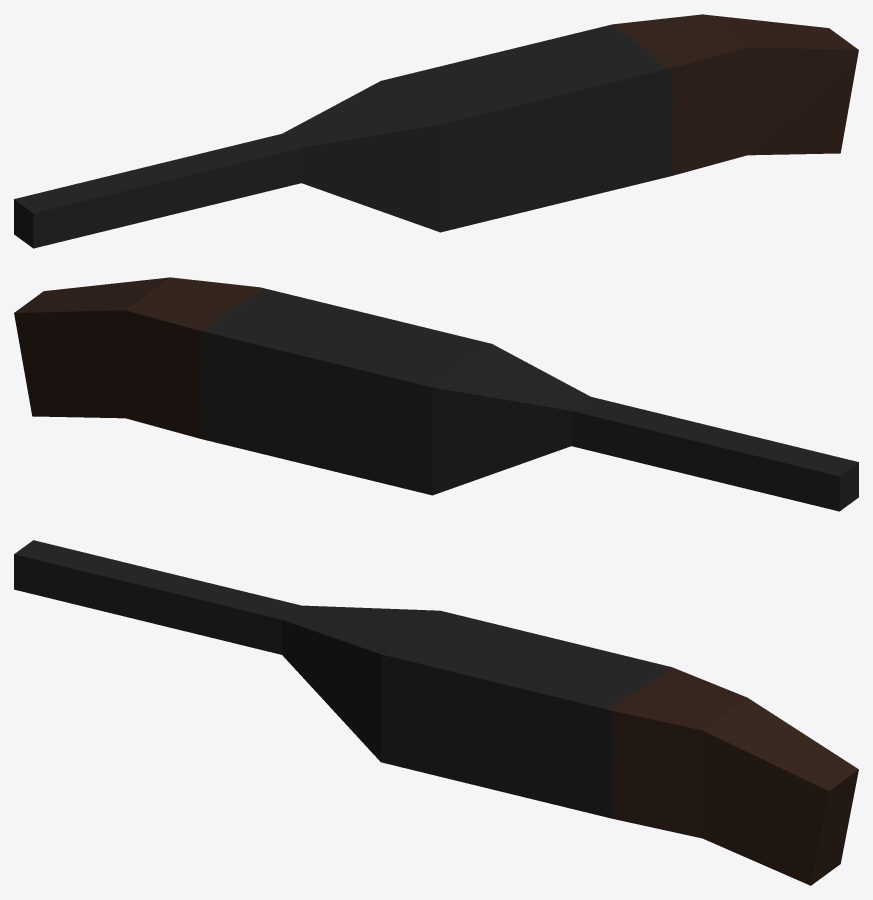
File: rifle.obj
3 renders of one model, top to bottom at view 1: azimuth 30°, elevation 25°; view 2: azimuth 150°, elevation 25°; view 3: azimuth 330°, elevation 25°, orthographic.
Parts seen in each view (by area): view 1: Cube; view 2: Cube; view 3: Cube.
Part boxes in pixels (<box>): Cube: <box>14,14,858,248</box>; Cube: <box>14,277,858,511</box>; Cube: <box>14,540,858,885</box>.
Bounding box in the file's own units: 1.18 × 0.1933 × 0.1479.
1 material, 1 textured.
